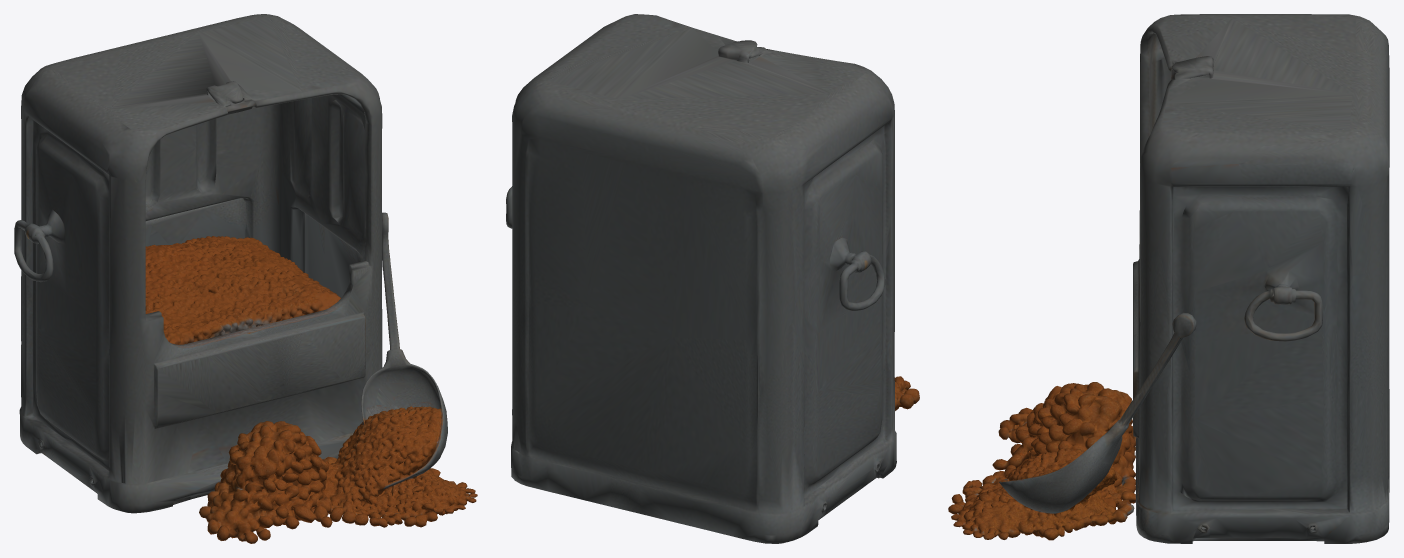
Rendered from Feed Bin.fbx.
3 views of the same model, side by side, from view 1: azimuth 30°, elevation 25°; view 2: azimuth 150°, elevation 25°; view 3: azimuth 270°, elevation 25° (orthographic). The views are drawn at different scales.
Visible parts, largest first — view 1: mesh_node; view 2: mesh_node; view 3: mesh_node.
Boxes of the visible parts, bbox=[...] form: mesh_node: bbox=[14, 14, 477, 543]; mesh_node: bbox=[506, 14, 919, 543]; mesh_node: bbox=[948, 14, 1389, 543].
Size of the model in its own units: 70.05 by 76.21 by 74.61.
Materials: 1 (1 with a texture image).
